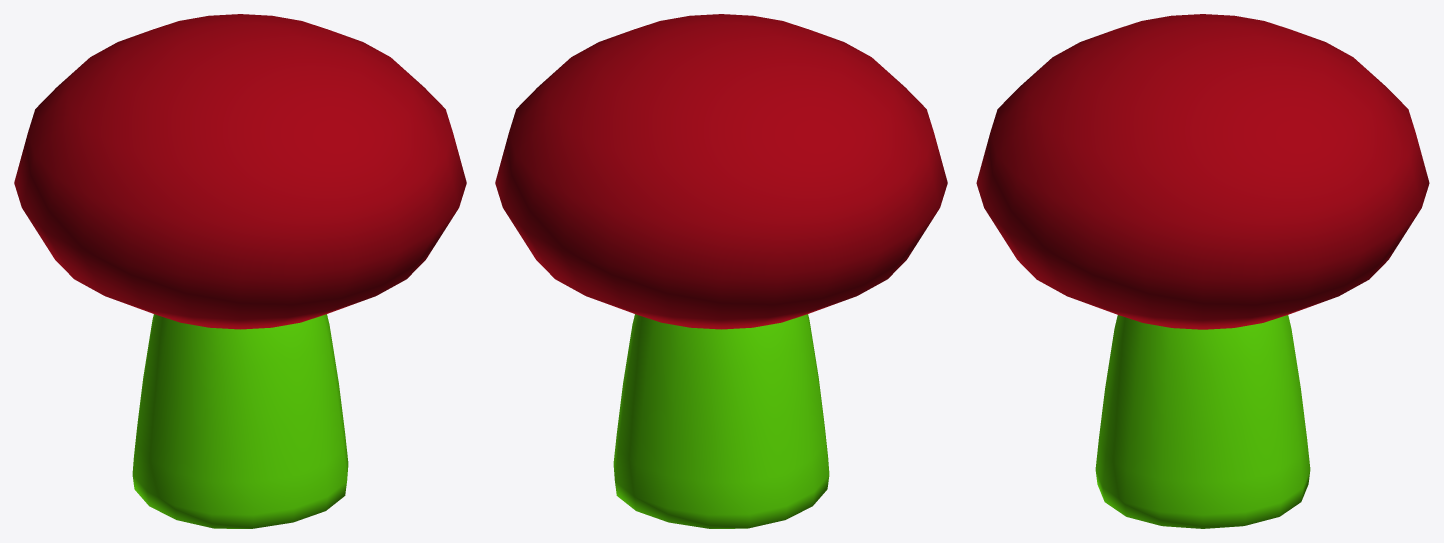
Rendered from cogumeloDePulo.glb.
The picture shows the model from 3 angles, left to right: view 1: azimuth 30°, elevation 25°; view 2: azimuth 150°, elevation 25°; view 3: azimuth 270°, elevation 25°; orthographic projection.
Parts seen in each view (by area): view 1: Sphere; view 2: Sphere; view 3: Sphere.
Part boxes in pixels (<box>): Sphere: <box>14,14,466,528</box>; Sphere: <box>495,14,947,528</box>; Sphere: <box>976,14,1429,528</box>.
Bounding box in the file's own units: 5.71 × 6.18 × 5.71.
